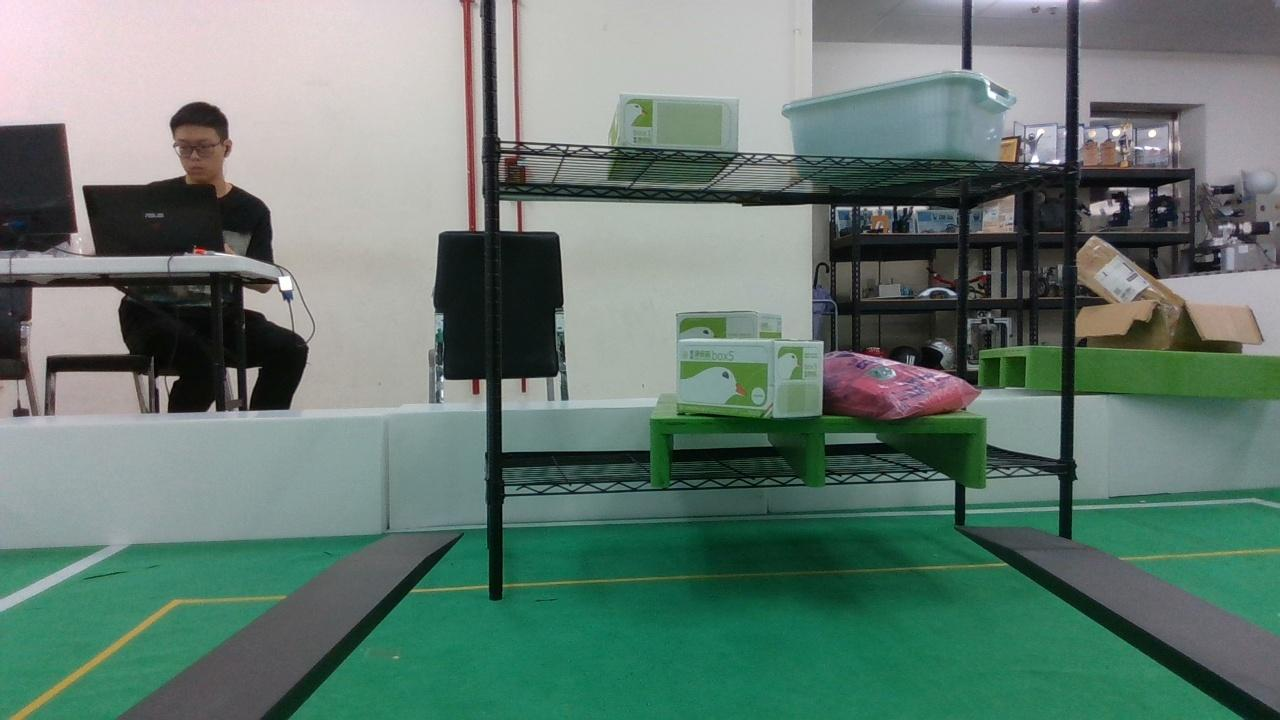Pallet: (648, 417, 987, 488)
